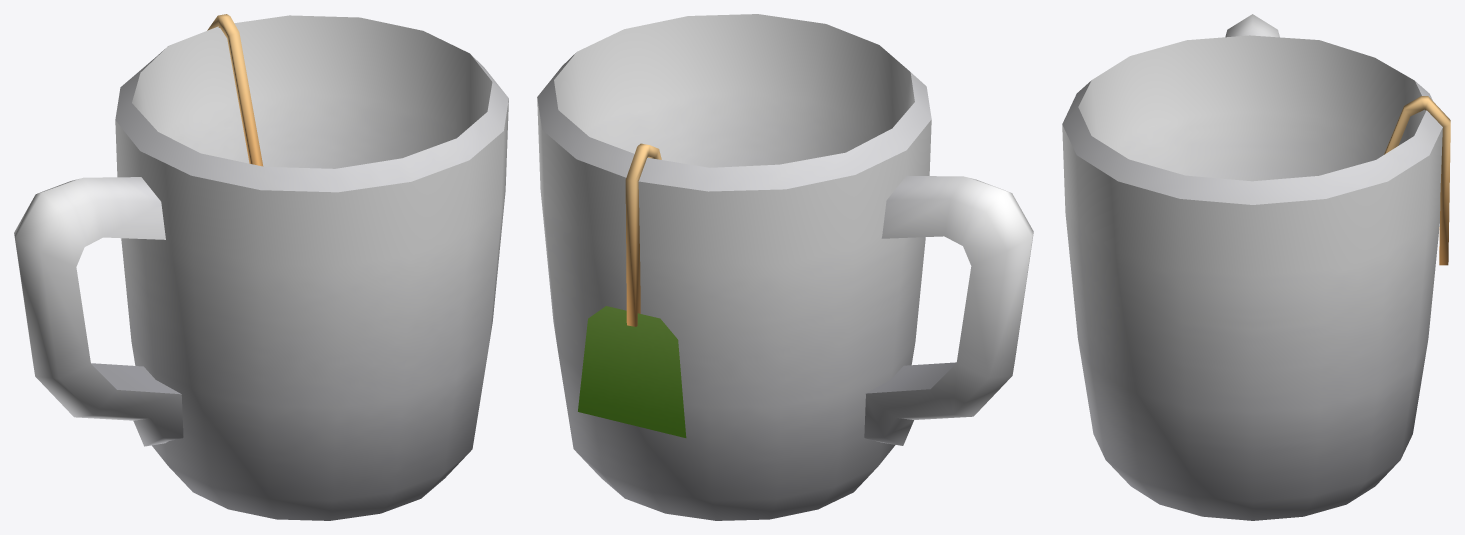
File: m_Mug02.fbx
The picture shows the model from 3 angles, left to right: view 1: azimuth 30°, elevation 25°; view 2: azimuth 150°, elevation 25°; view 3: azimuth 270°, elevation 25°; orthographic projection. The views are drawn at different scales.
Visible parts, largest first — view 1: m_Mug02; view 2: m_Mug02; view 3: m_Mug02.
Boxes of the visible parts, x1,y1,x2,y2 form: m_Mug02: (14,14,508,520); m_Mug02: (537,14,1033,520); m_Mug02: (1062,14,1450,520).
Size of the model in its own units: 15.22 by 11.86 by 11.36.
